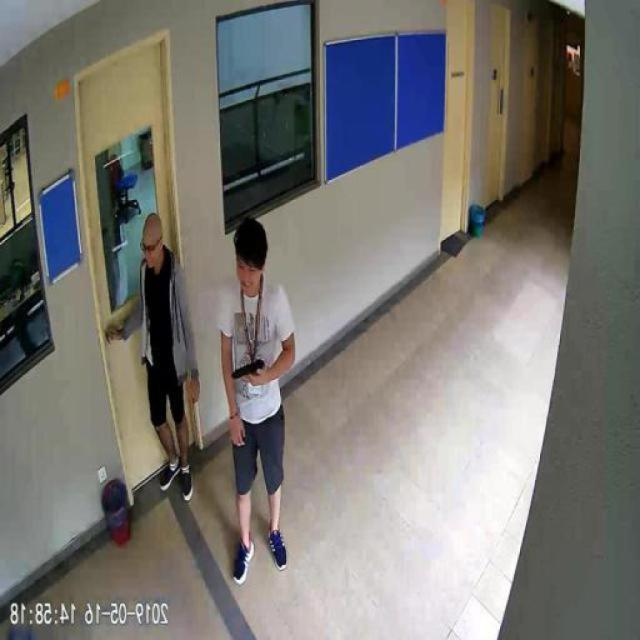pistol: (233, 358, 264, 384)
